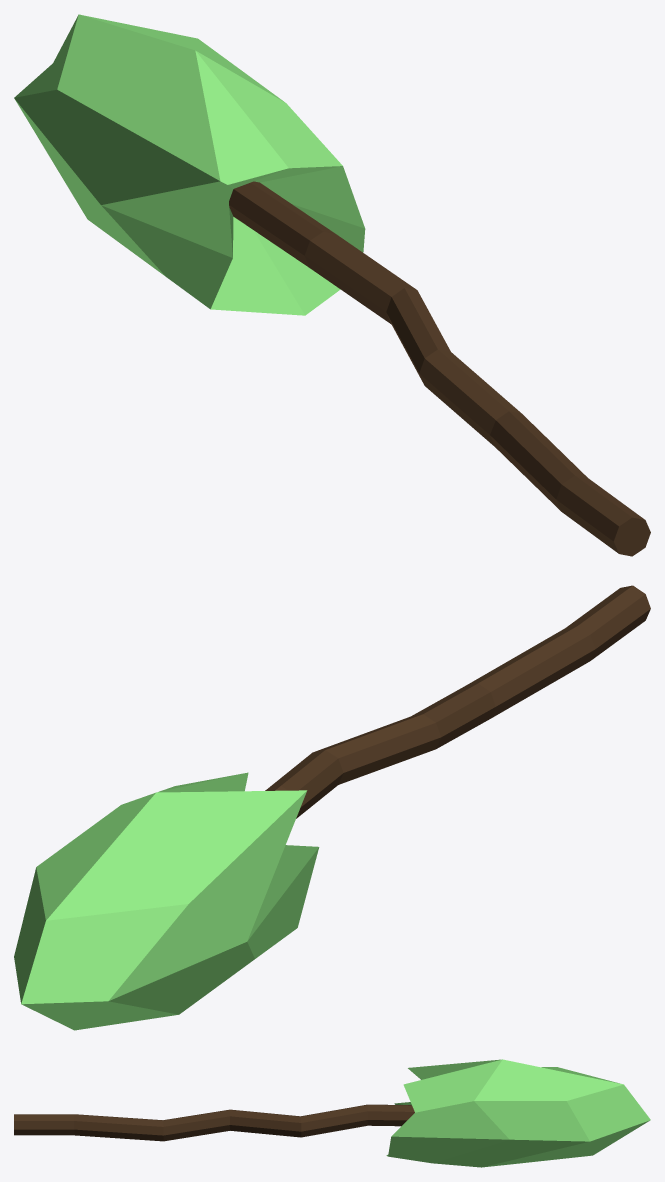
Rendered from Low_Poly_Tree_3.fbx.
3 renders of one model, top to bottom at view 1: azimuth 30°, elevation 25°; view 2: azimuth 150°, elevation 25°; view 3: azimuth 270°, elevation 25°, orthographic. The views are drawn at different scales.
Visible parts, largest first — view 1: Plane; view 2: Plane; view 3: Plane.
Boxes of the visible parts, x1,y1,x2,y2 form: Plane: (14, 14, 650, 556); Plane: (14, 585, 650, 1030); Plane: (14, 1059, 650, 1167).
Size of the model in its own units: 290 by 306 by 1625.
